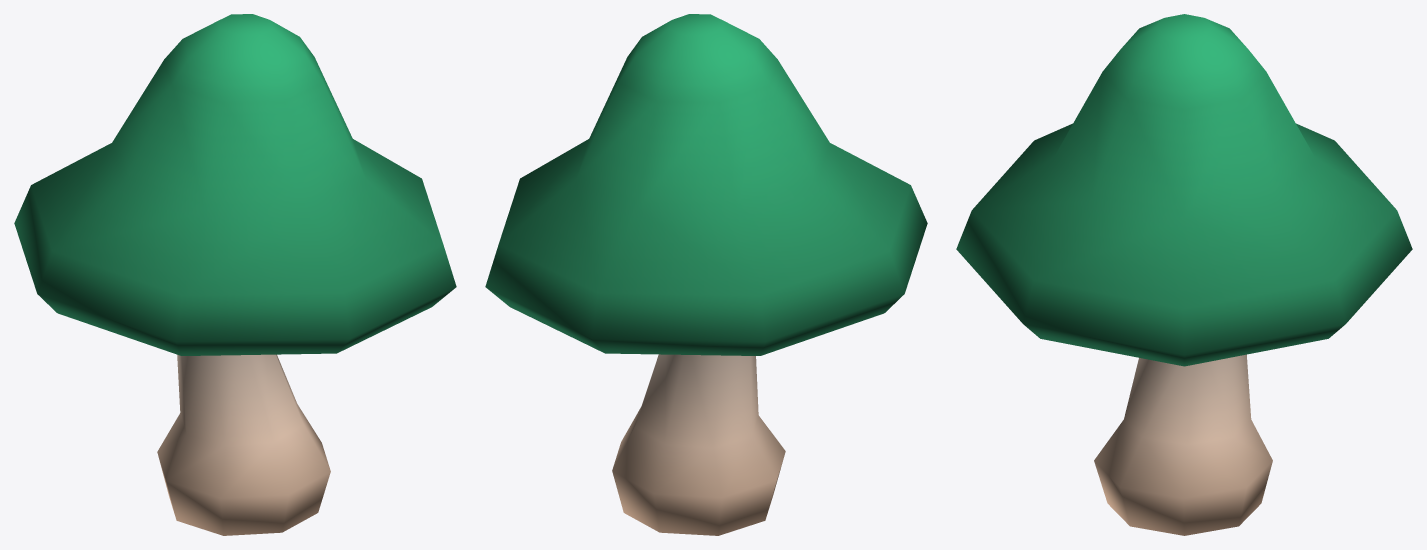
The model's file is Mushroom2_Color3.fbx.
3 renders of one model, left to right at view 1: azimuth 30°, elevation 25°; view 2: azimuth 150°, elevation 25°; view 3: azimuth 270°, elevation 25°, orthographic.
Parts seen in each view (by area): view 1: Mushroom2_Color3; view 2: Mushroom2_Color3; view 3: Mushroom2_Color3.
Boxes of the visible parts, x1,y1,x2,y2 form: Mushroom2_Color3: (14,14,456,535); Mushroom2_Color3: (485,14,927,535); Mushroom2_Color3: (956,14,1412,535).
Size of the model in its own units: 13.55 by 15.69 by 13.56.
